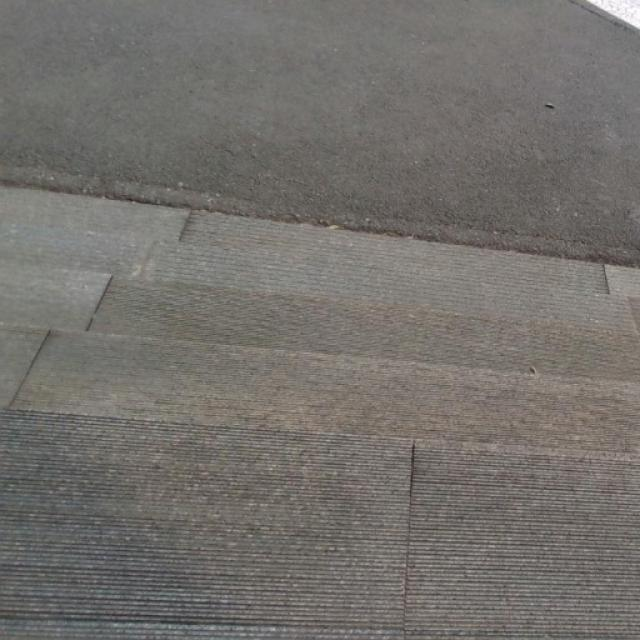stair: (6, 166, 640, 583)
